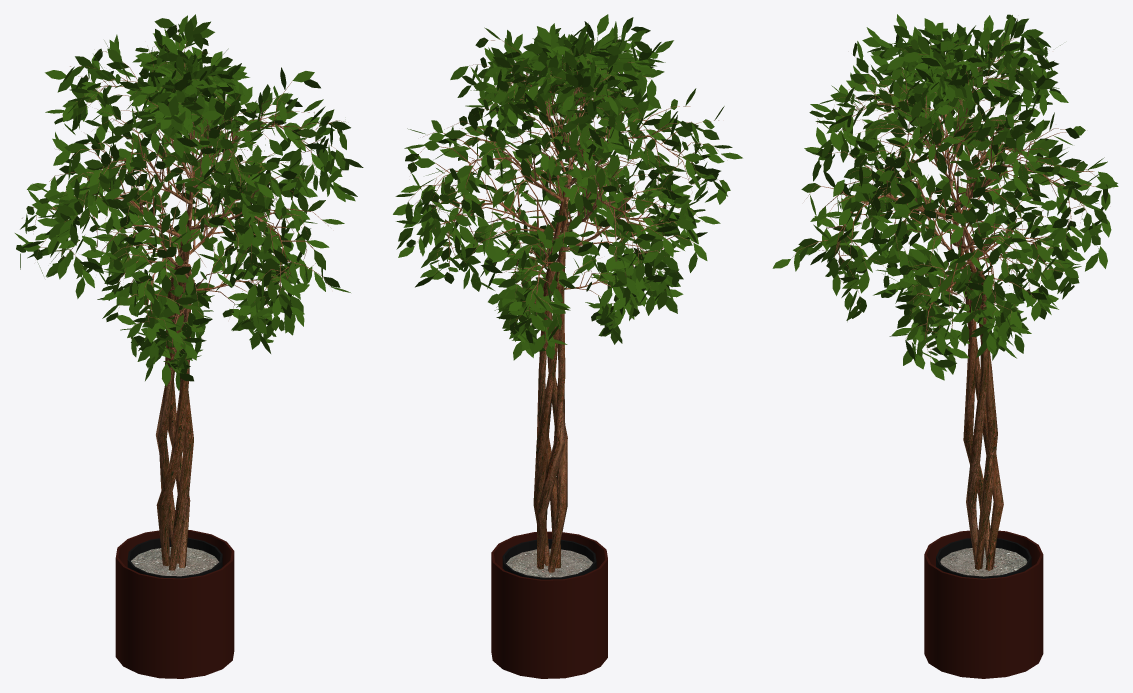
Rendered from ficus.obj.
3 renders of one model, left to right at view 1: azimuth 30°, elevation 25°; view 2: azimuth 150°, elevation 25°; view 3: azimuth 270°, elevation 25°, orthographic.
Parts seen in each view (by area): view 1: leaves, tree_Mesh, Cylinder.001_Cylinder.002, Cylinder.002_Cylinder.003, Cylinder_Cylinder.001; view 2: leaves, tree_Mesh, Cylinder.001_Cylinder.002, Cylinder.002_Cylinder.003, Cylinder_Cylinder.001; view 3: leaves, tree_Mesh, Cylinder.001_Cylinder.002, Cylinder.002_Cylinder.003, Cylinder_Cylinder.001.
Part boxes in pixels (left/top/right/bottom): leaves: left=15, top=14, right=363, bottom=390; tree_Mesh: left=22, top=29, right=344, bottom=570; Cylinder.001_Cylinder.002: left=115, top=530, right=234, bottom=678; Cylinder.002_Cylinder.003: left=131, top=547, right=218, bottom=576; Cylinder_Cylinder.001: left=127, top=537, right=222, bottom=578; leaves: left=393, top=14, right=742, bottom=360; tree_Mesh: left=408, top=36, right=722, bottom=572; Cylinder.001_Cylinder.002: left=491, top=531, right=607, bottom=678; Cylinder.002_Cylinder.003: left=506, top=548, right=592, bottom=577; Cylinder_Cylinder.001: left=502, top=539, right=596, bottom=579; leaves: left=772, top=14, right=1118, bottom=380; tree_Mesh: left=791, top=38, right=1095, bottom=570; Cylinder.001_Cylinder.002: left=924, top=530, right=1043, bottom=678; Cylinder.002_Cylinder.003: left=940, top=547, right=1027, bottom=576; Cylinder_Cylinder.001: left=936, top=538, right=1031, bottom=578.
Size of the model in its own units: 42.46 by 82.39 by 41.52.
